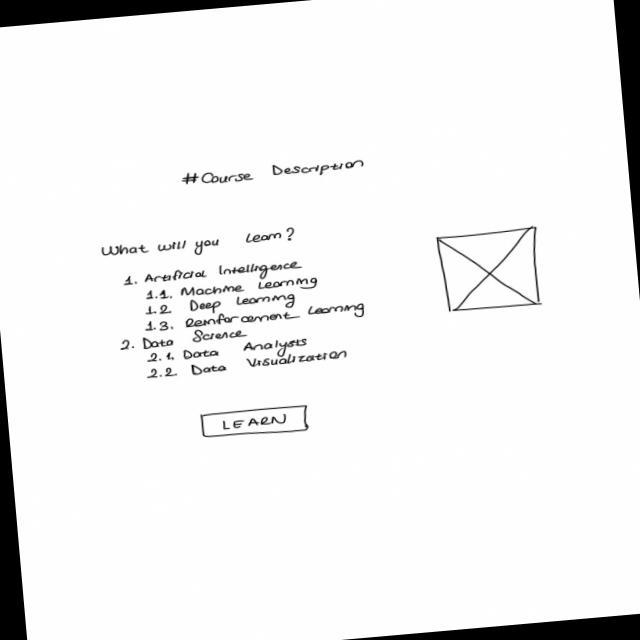button: (198, 402, 312, 440)
image: (435, 224, 545, 314)
label: (97, 226, 296, 264), (178, 155, 366, 188)
textbox: (110, 252, 370, 382)
